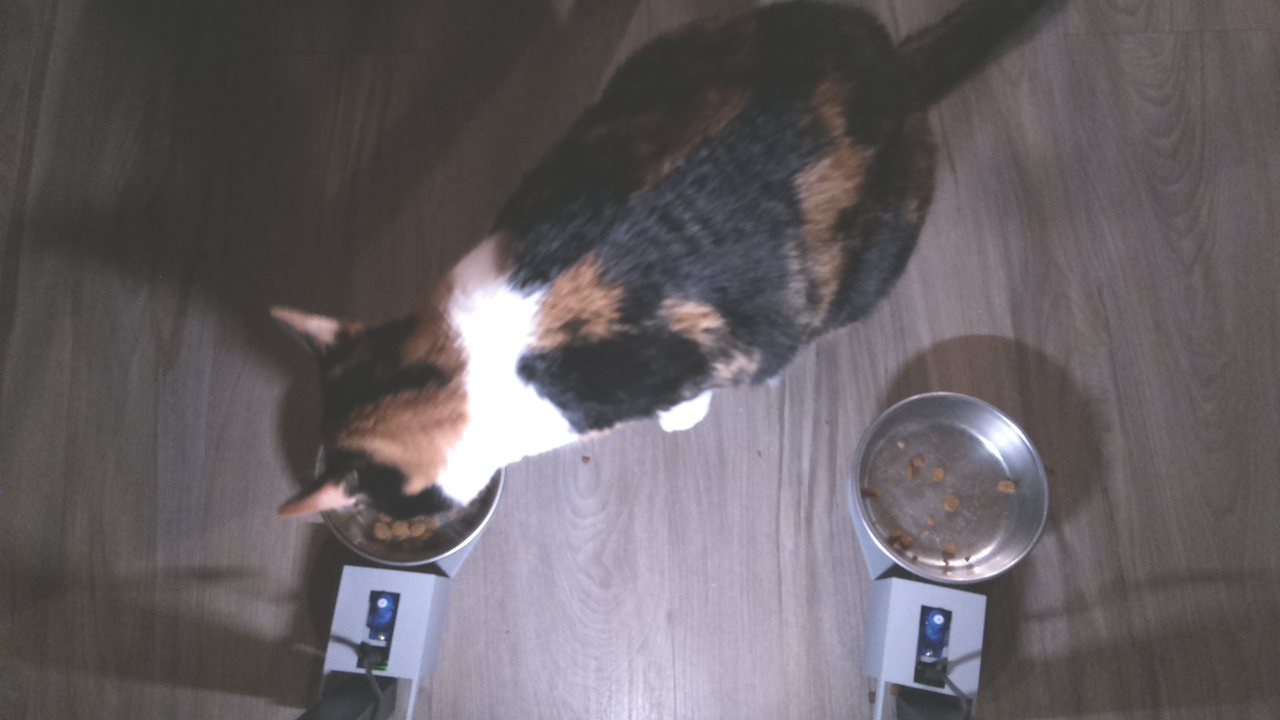bella_eating: (261, 280, 542, 558)
open_bowl: (848, 390, 1056, 586)
